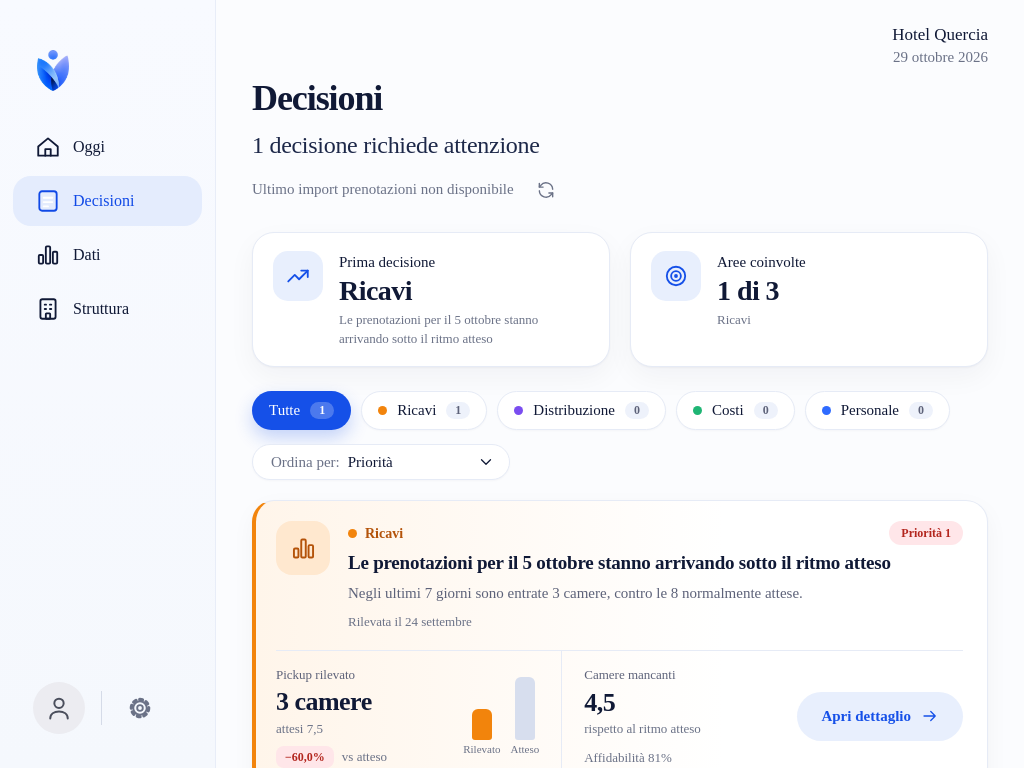
Test: /decisioni - filter by area › ...or NOT analysed - never read as 'all fine'
The image size is (1024, 768).
Expected: the number of links named "Apri dettaglio: " is 1, [797,692,963,741]
Click the button with aria-label "Costi, 0 decisioni": (735, 411) [676,391,795,430]
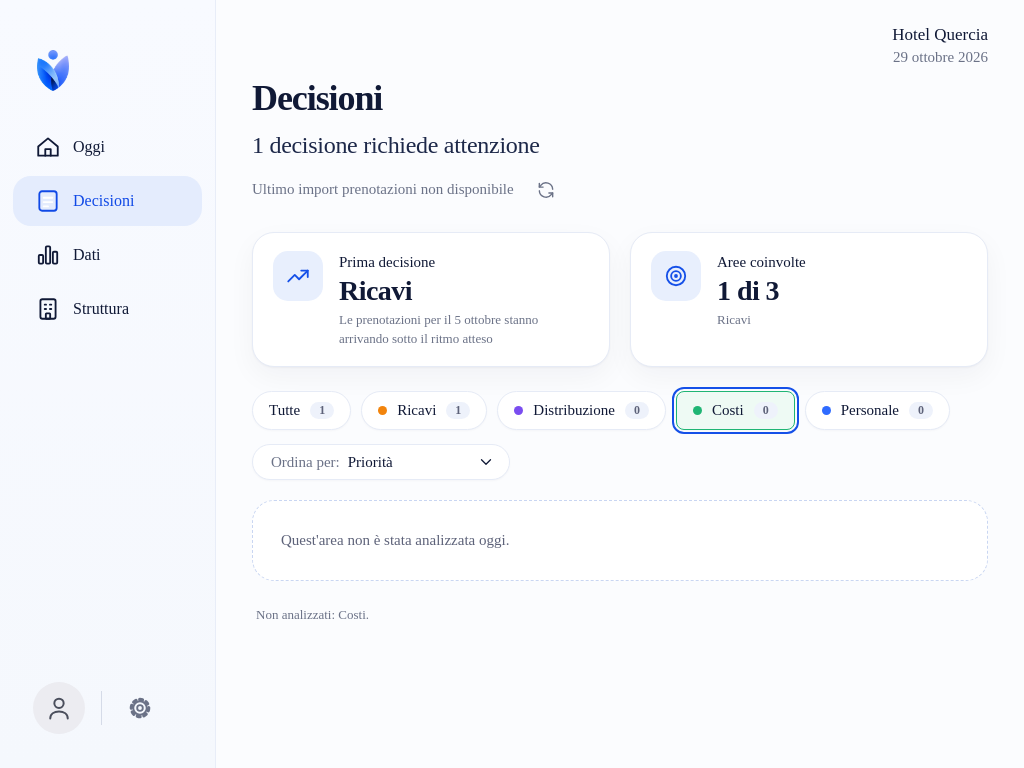
Now the message reads "Quest'area non è stata analizzata oggi.", box [281,532,509,548]
